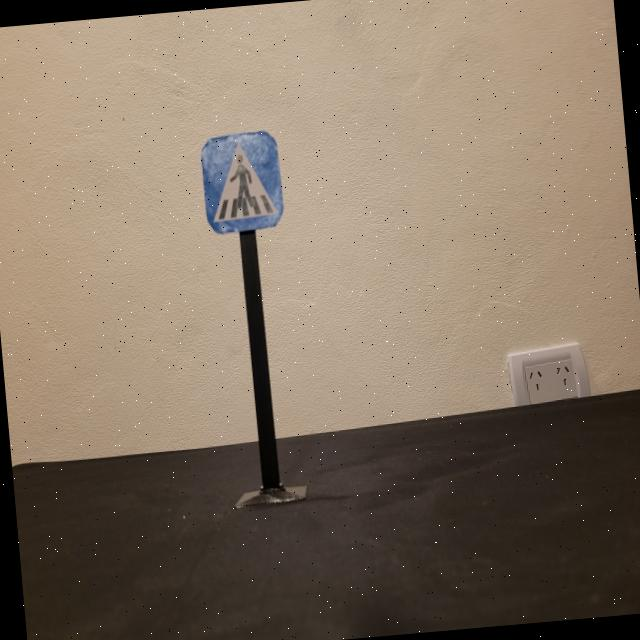crosswalk: (198, 123, 288, 238)
